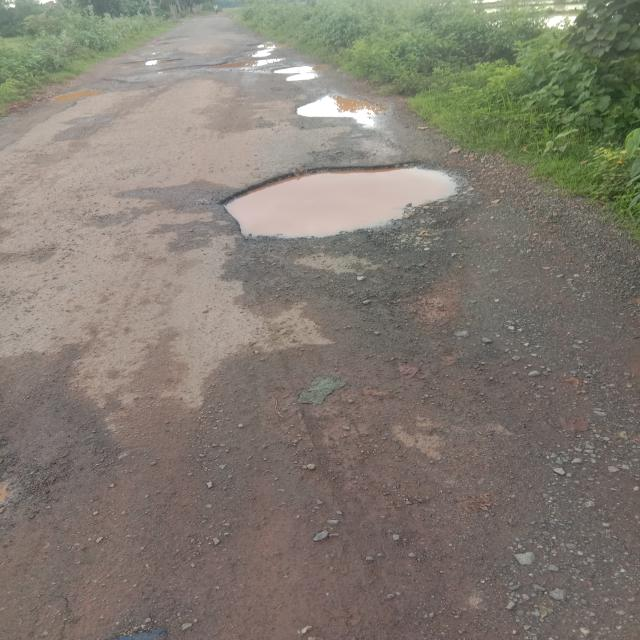potholes: (218, 159, 464, 247), (296, 92, 384, 135), (234, 42, 318, 86), (48, 76, 137, 108), (146, 48, 164, 73)
